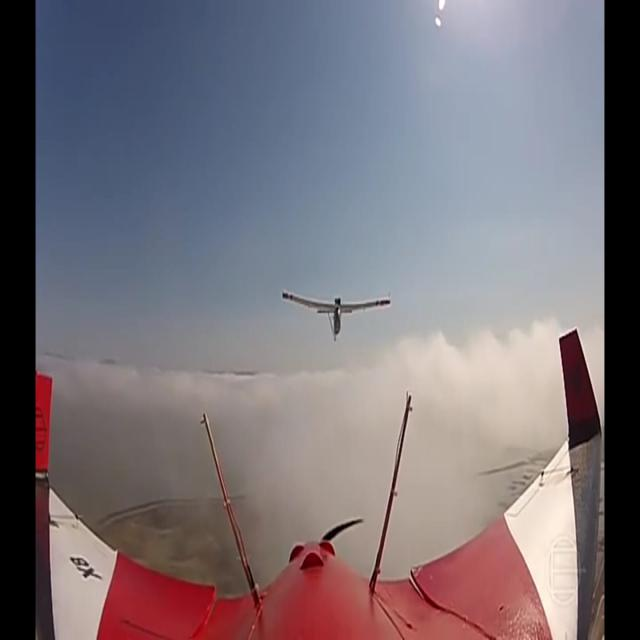iha: (314, 291, 360, 341)
